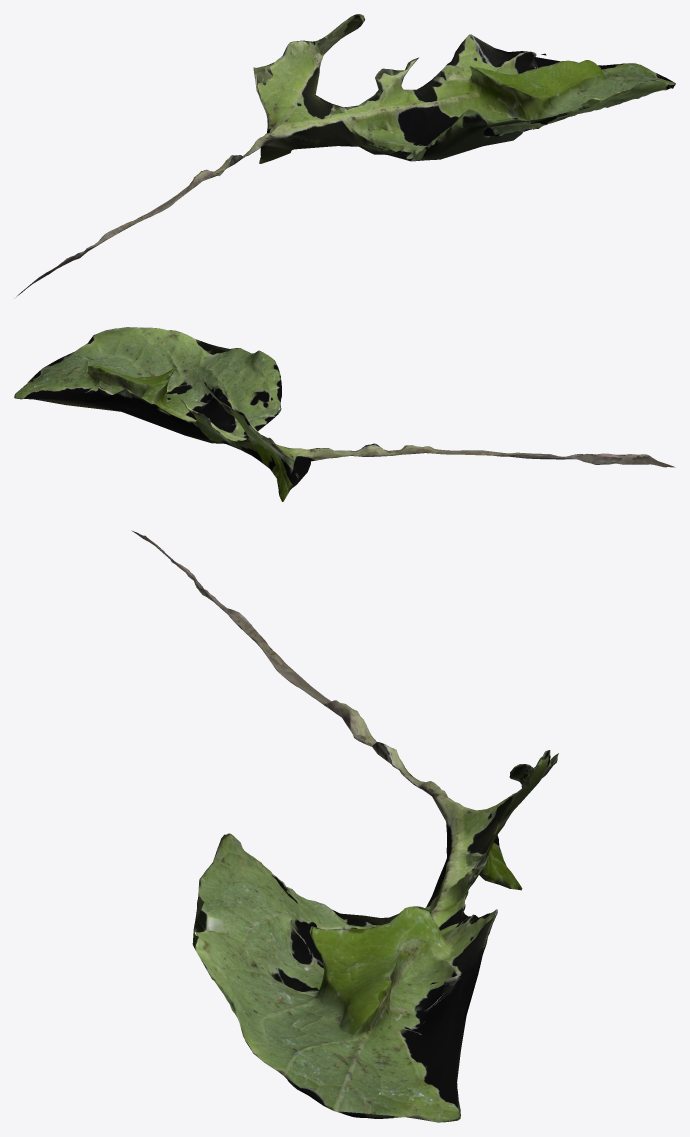
Rendered from leaf-16.glb.
3 views of the same model, one above another, from view 1: azimuth 30°, elevation 25°; view 2: azimuth 150°, elevation 25°; view 3: azimuth 270°, elevation 25° (orthographic). The views are drawn at different scales.
Visible parts, largest first — view 1: Mesh; view 2: Mesh; view 3: Mesh.
Part boxes in pixels (x1=…): Mesh: x1=14, y1=14, x2=675, y2=298; Mesh: x1=14, y1=327, x2=675, y2=501; Mesh: x1=131, y1=530, x2=558, y2=1122.
Bounding box in the file's own units: 0.4215 × 0.0702 × 0.134.
Materials: 1 (1 with a texture image).
